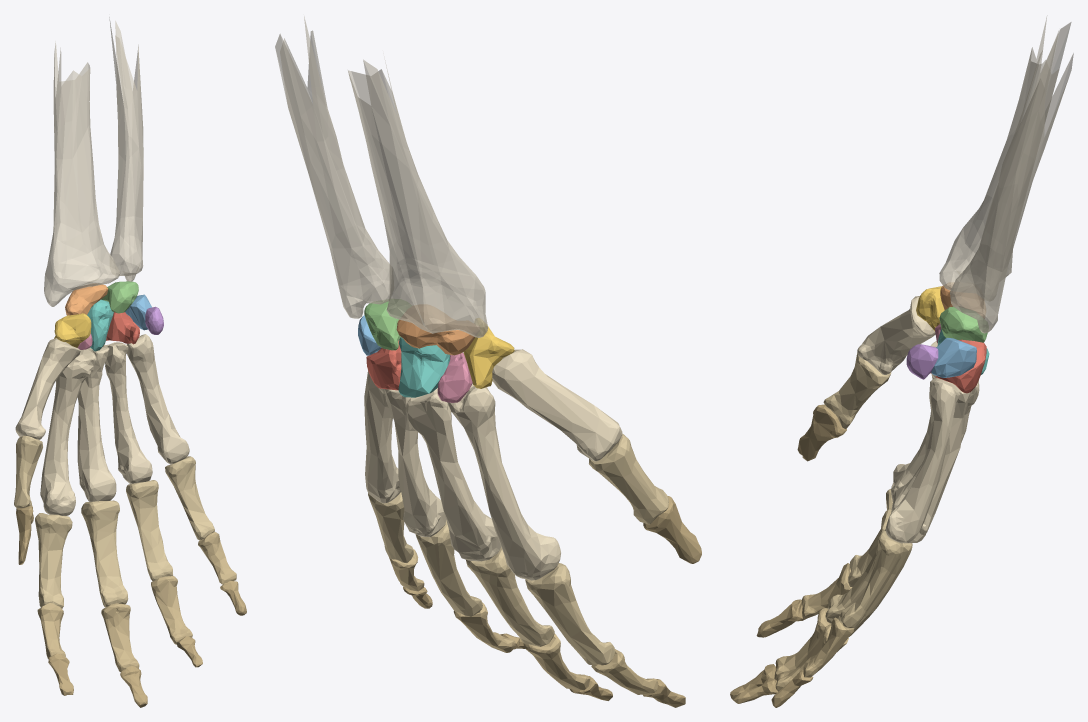
The model's file is hand.glb.
The picture shows the model from 3 angles, left to right: view 1: azimuth 30°, elevation 25°; view 2: azimuth 150°, elevation 25°; view 3: azimuth 270°, elevation 25°; orthographic projection. The views are drawn at different scales.
Parts seen in each view (by area): view 1: forearm, metacarpals, proximal, middle, distal, trapezium, scaphoid, capitate, lunate, hamate, triquetral, pisiform; view 2: forearm, metacarpals, proximal, middle, distal, scaphoid, capitate, trapezium, lunate, hamate, trapezoid; view 3: forearm, metacarpals, proximal, distal, middle, triquetral, lunate, hamate, pisiform, trapezium, scaphoid.
Boxes of the visible parts, x1,y1,x2,y2 form: forearm: (44,17,143,306); metacarpals: (15,334,189,515); proximal: (14,435,214,608); middle: (37,532,236,672); distal: (16,505,246,707); trapezium: (54,313,91,347); scaphoid: (65,283,108,315); capitate: (87,299,113,351); lunate: (101,281,138,313); hamate: (106,312,139,344); triquetral: (125,294,151,330); pisiform: (145,306,163,334); forearm: (275,16,487,337); metacarpals: (364,349,622,580); proximal: (368,433,668,665); middle: (389,549,658,694); distal: (403,496,701,707); scaphoid: (396,305,479,355); capitate: (398,337,449,397); trapezium: (463,318,514,388); lunate: (364,299,411,350); hamate: (366,340,401,390); trapezoid: (437,352,472,402); forearm: (939,15,1073,333); metacarpals: (857,296,979,543); proximal: (823,353,912,636); distal: (730,404,846,707); middle: (774,563,853,691); triquetral: (931,337,976,377); lunate: (939,306,988,342); hamate: (930,339,986,393); pisiform: (906,344,938,379); trapezium: (916,286,944,330); scaphoid: (940,283,985,318).
Bounding box in the file's own units: 0.105 × 0.264 × 0.1125.
